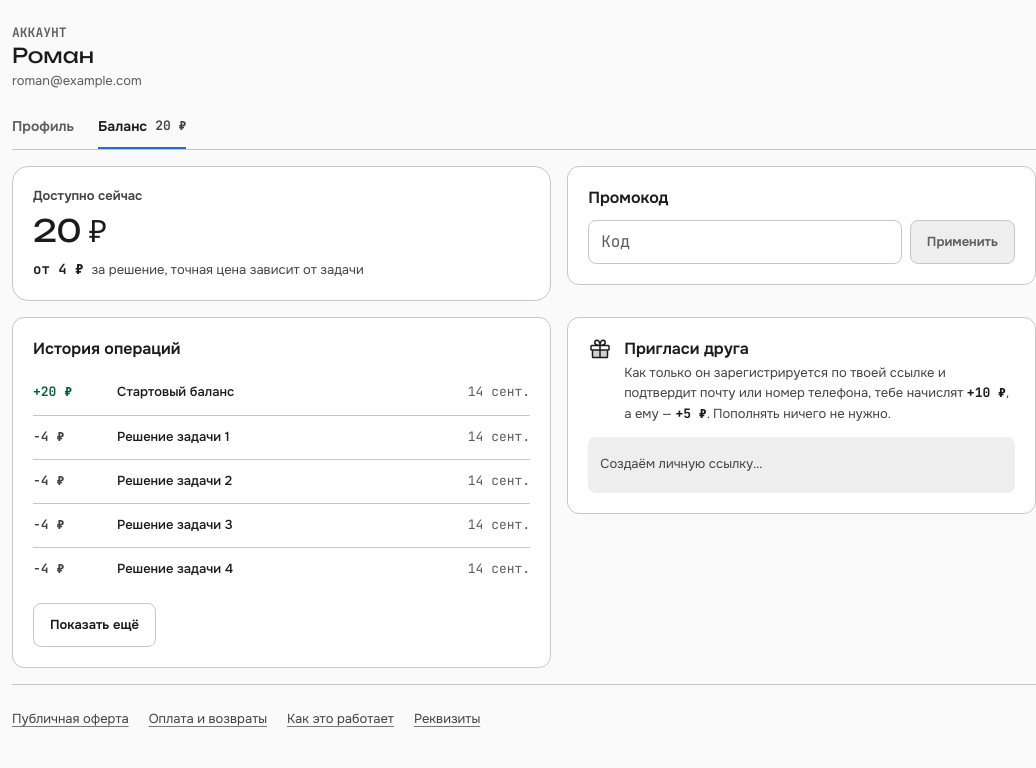
BalancePage › shows the latest operations and loads the rest on request
The image size is (1036, 768).
Check: the number of list items is 5, box [33,383,530,400]; [33,414,530,458]; [33,458,530,502]; [33,502,530,546]; [33,546,530,590]
Click the button "Показать ещё" at (94, 624), box [33,602,156,646]
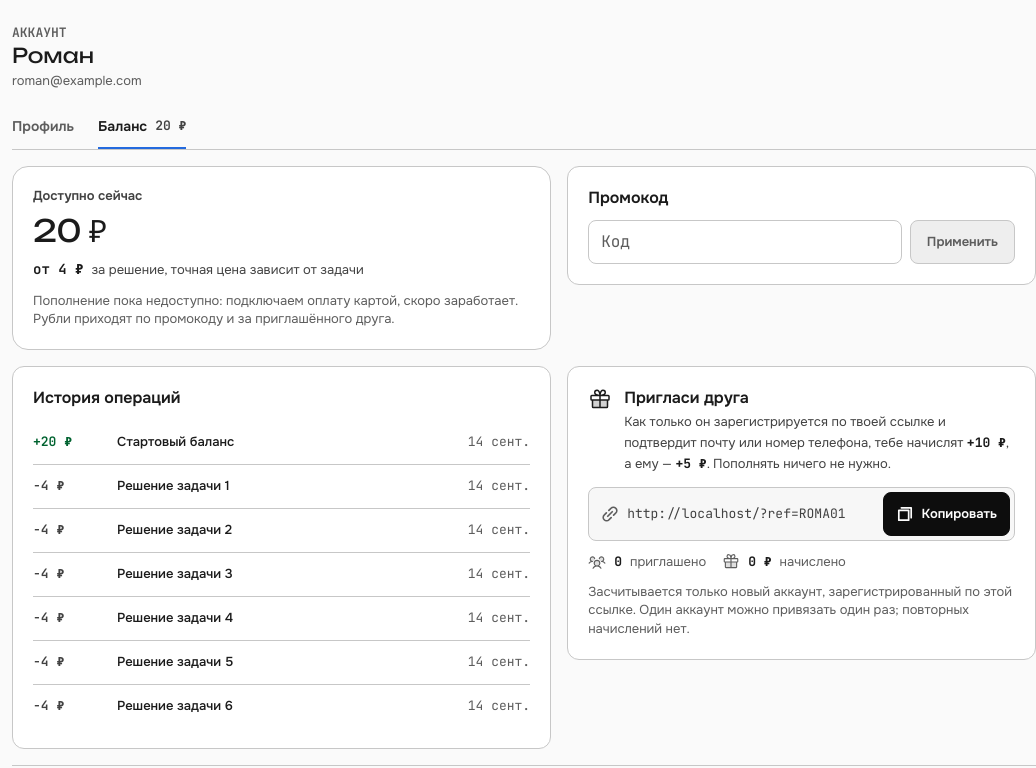
Check: the number of list items is 7
Check: the button "Показать ещё" is gone
